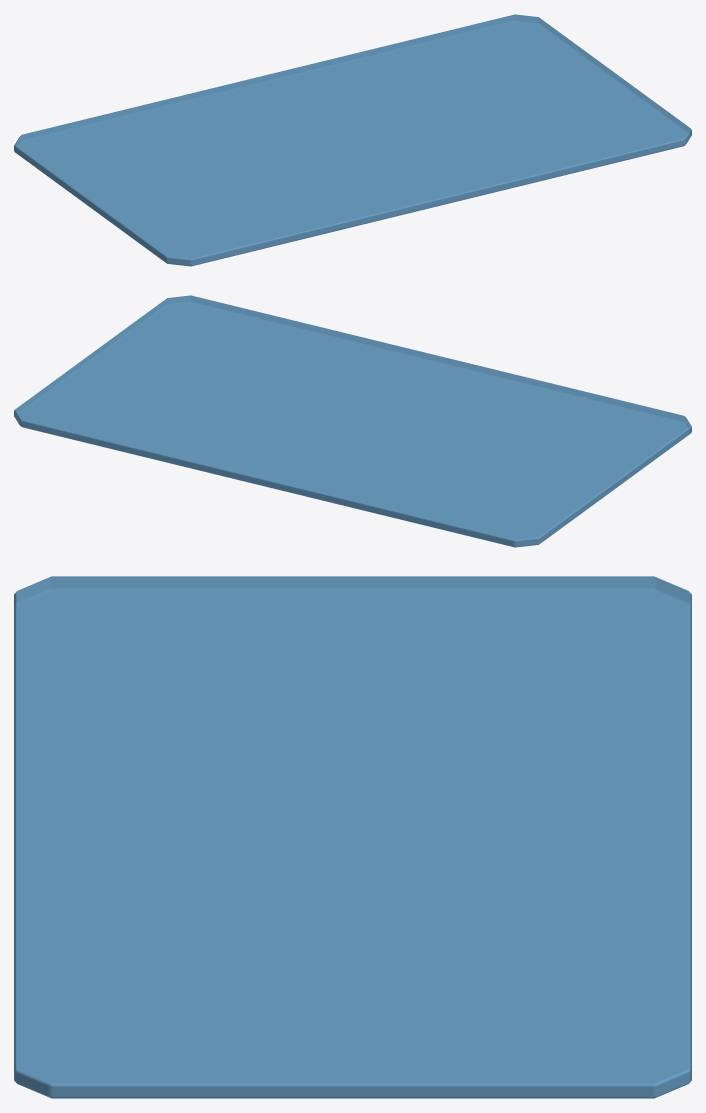
The model's file is Promo_Display_03_Glass.fbx.
3 views of the same model, one above another, from view 1: azimuth 30°, elevation 25°; view 2: azimuth 150°, elevation 25°; view 3: azimuth 270°, elevation 25° (orthographic). The views are drawn at different scales.
Visible parts, largest first — view 1: Promo_Display_03_Glass; view 2: Promo_Display_03_Glass; view 3: Promo_Display_03_Glass.
Part boxes in pixels (x1=…): Promo_Display_03_Glass: x1=14, y1=14, x2=691, y2=266; Promo_Display_03_Glass: x1=14, y1=295, x2=691, y2=547; Promo_Display_03_Glass: x1=14, y1=576, x2=691, y2=1098.
Size of the model in its own units: 90.86 by 1.31 by 51.11.
